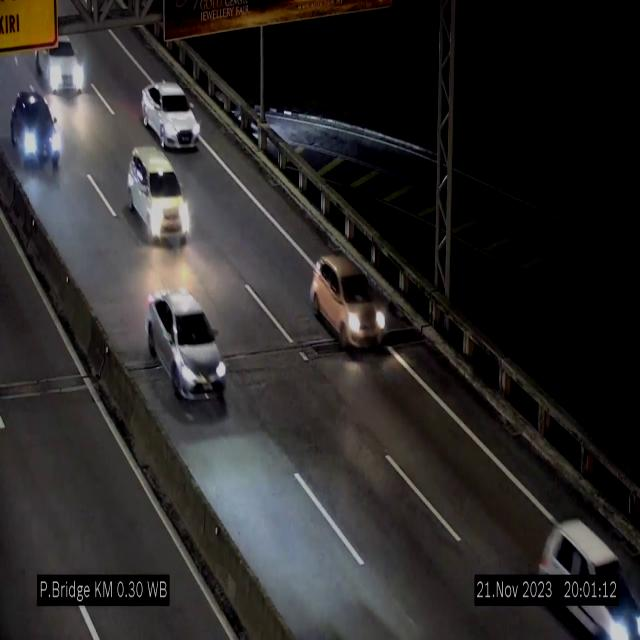Car: (532, 506, 639, 640), (308, 247, 390, 358), (147, 292, 227, 401), (128, 146, 192, 244), (7, 85, 63, 174), (142, 81, 200, 148), (37, 26, 85, 100)
